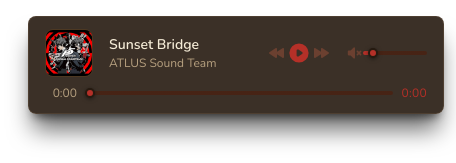
Test: MusicPlayer › wraps from the first track back to the last
Click the button named "Previous track": [277, 53] box [267, 43, 287, 63]
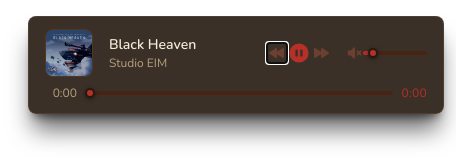
Expected: the heading "Black Heaven" is shown, [109, 35, 196, 54]
